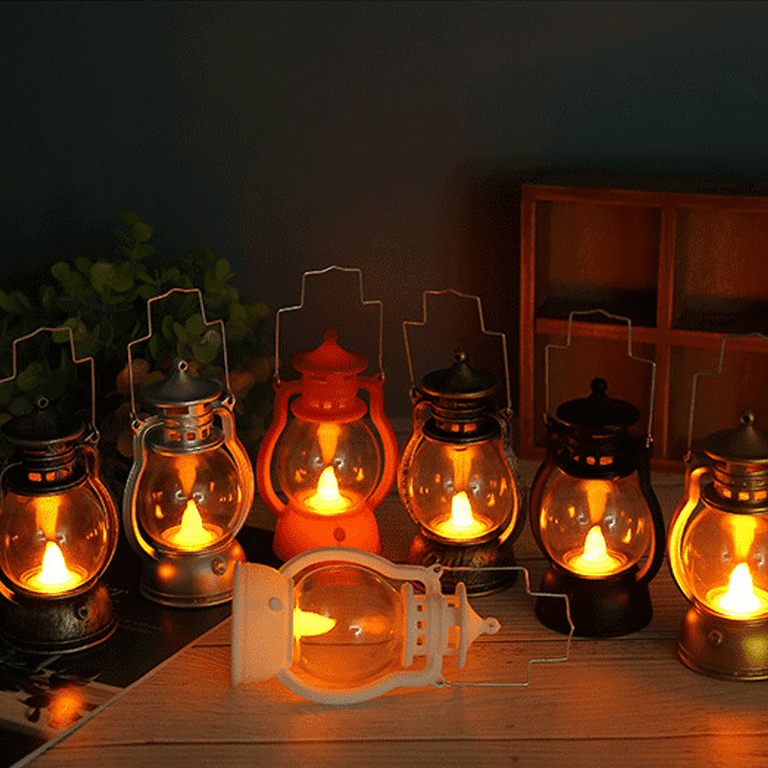Open-Flame-Hazard: (216, 526, 596, 717), (515, 283, 663, 645), (254, 240, 390, 584), (117, 282, 259, 611), (653, 312, 768, 702), (0, 303, 124, 660), (396, 262, 521, 616)
